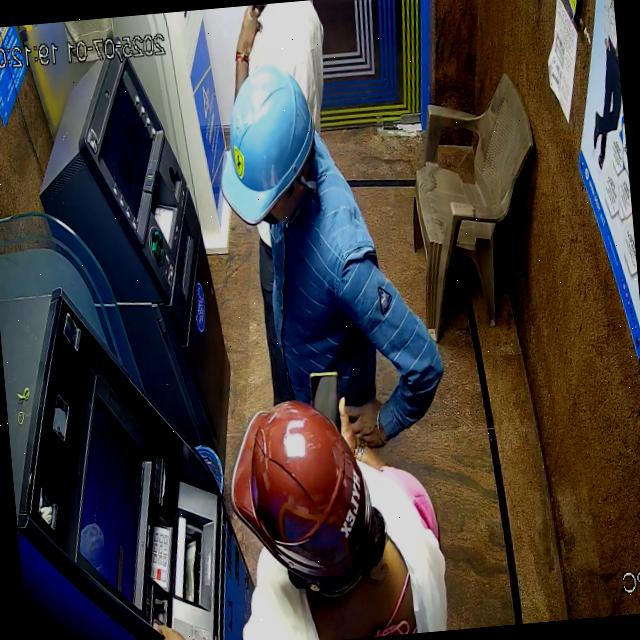helmet: (228, 398, 373, 597), (220, 64, 315, 222)
